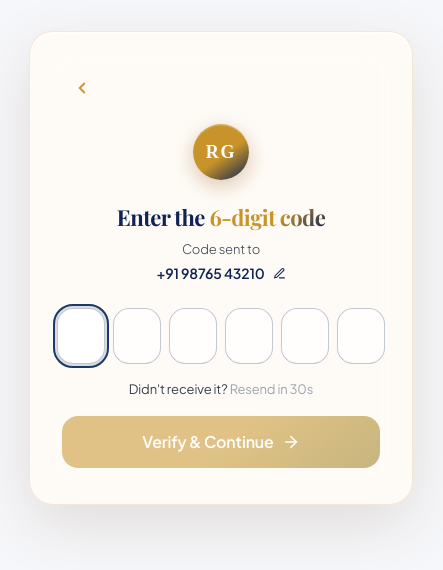
VerifyOtpScreen › shows error alert when verifyOtp rejects with ApiError
Type "0" into the field named "OTP digit 1". click: (81, 336)
box: [57, 308, 105, 364]
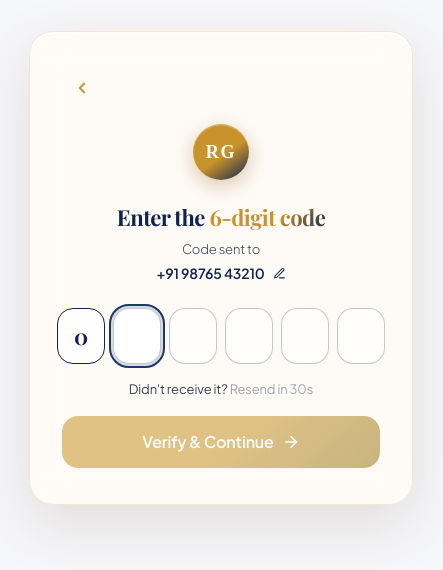
Type "0" into the field named "OTP digit 2". click: (137, 336)
box: [113, 308, 161, 364]
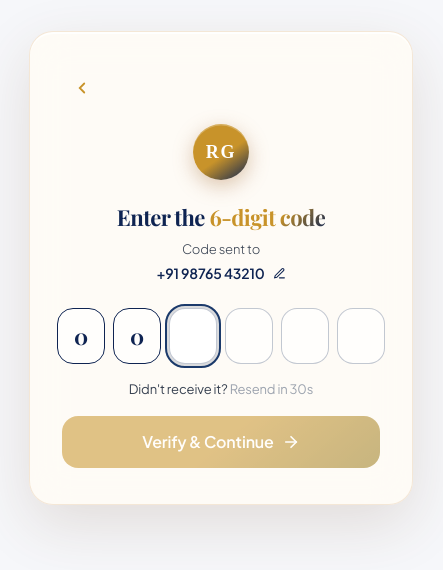
Type "0" into the field named "OTP digit 3". click: (193, 336)
box: [169, 308, 217, 364]
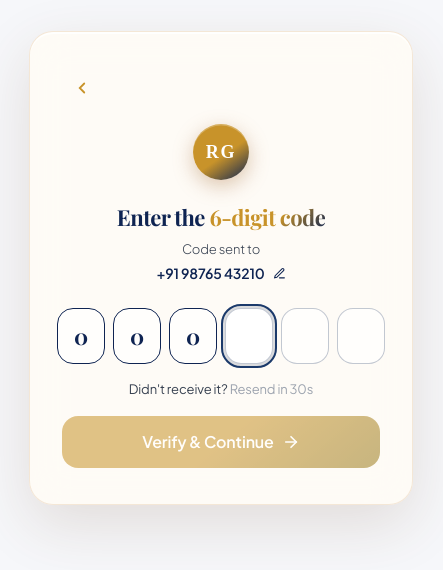
Type "0" into the field named "OTP digit 4". click: (249, 336)
box: [225, 308, 273, 364]
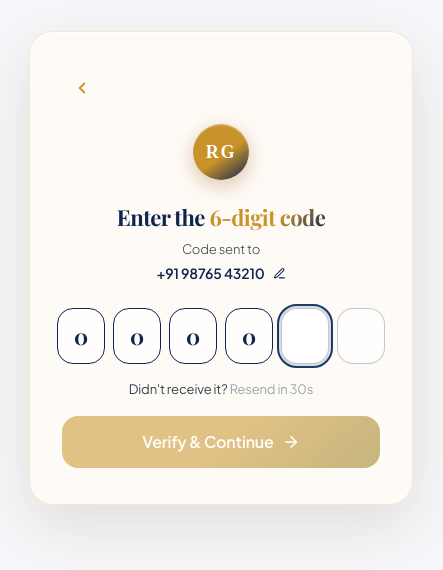
Type "0" into the field named "OTP digit 5". click: (305, 336)
box: [281, 308, 329, 364]
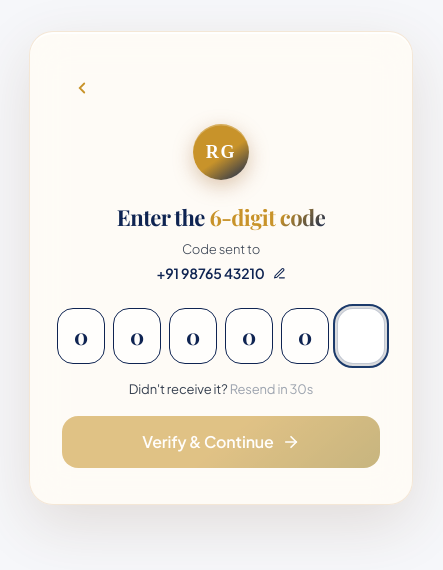
Type "0" into the field named "OTP digit 6". click: (361, 336)
box: [337, 308, 385, 364]
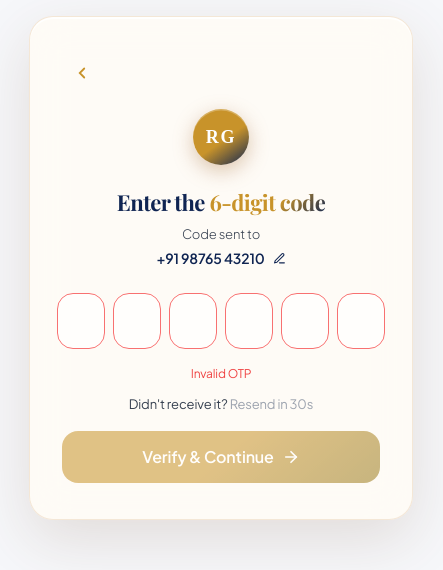
Expected: the message reads "Invalid OTP", [191, 366, 251, 381]
